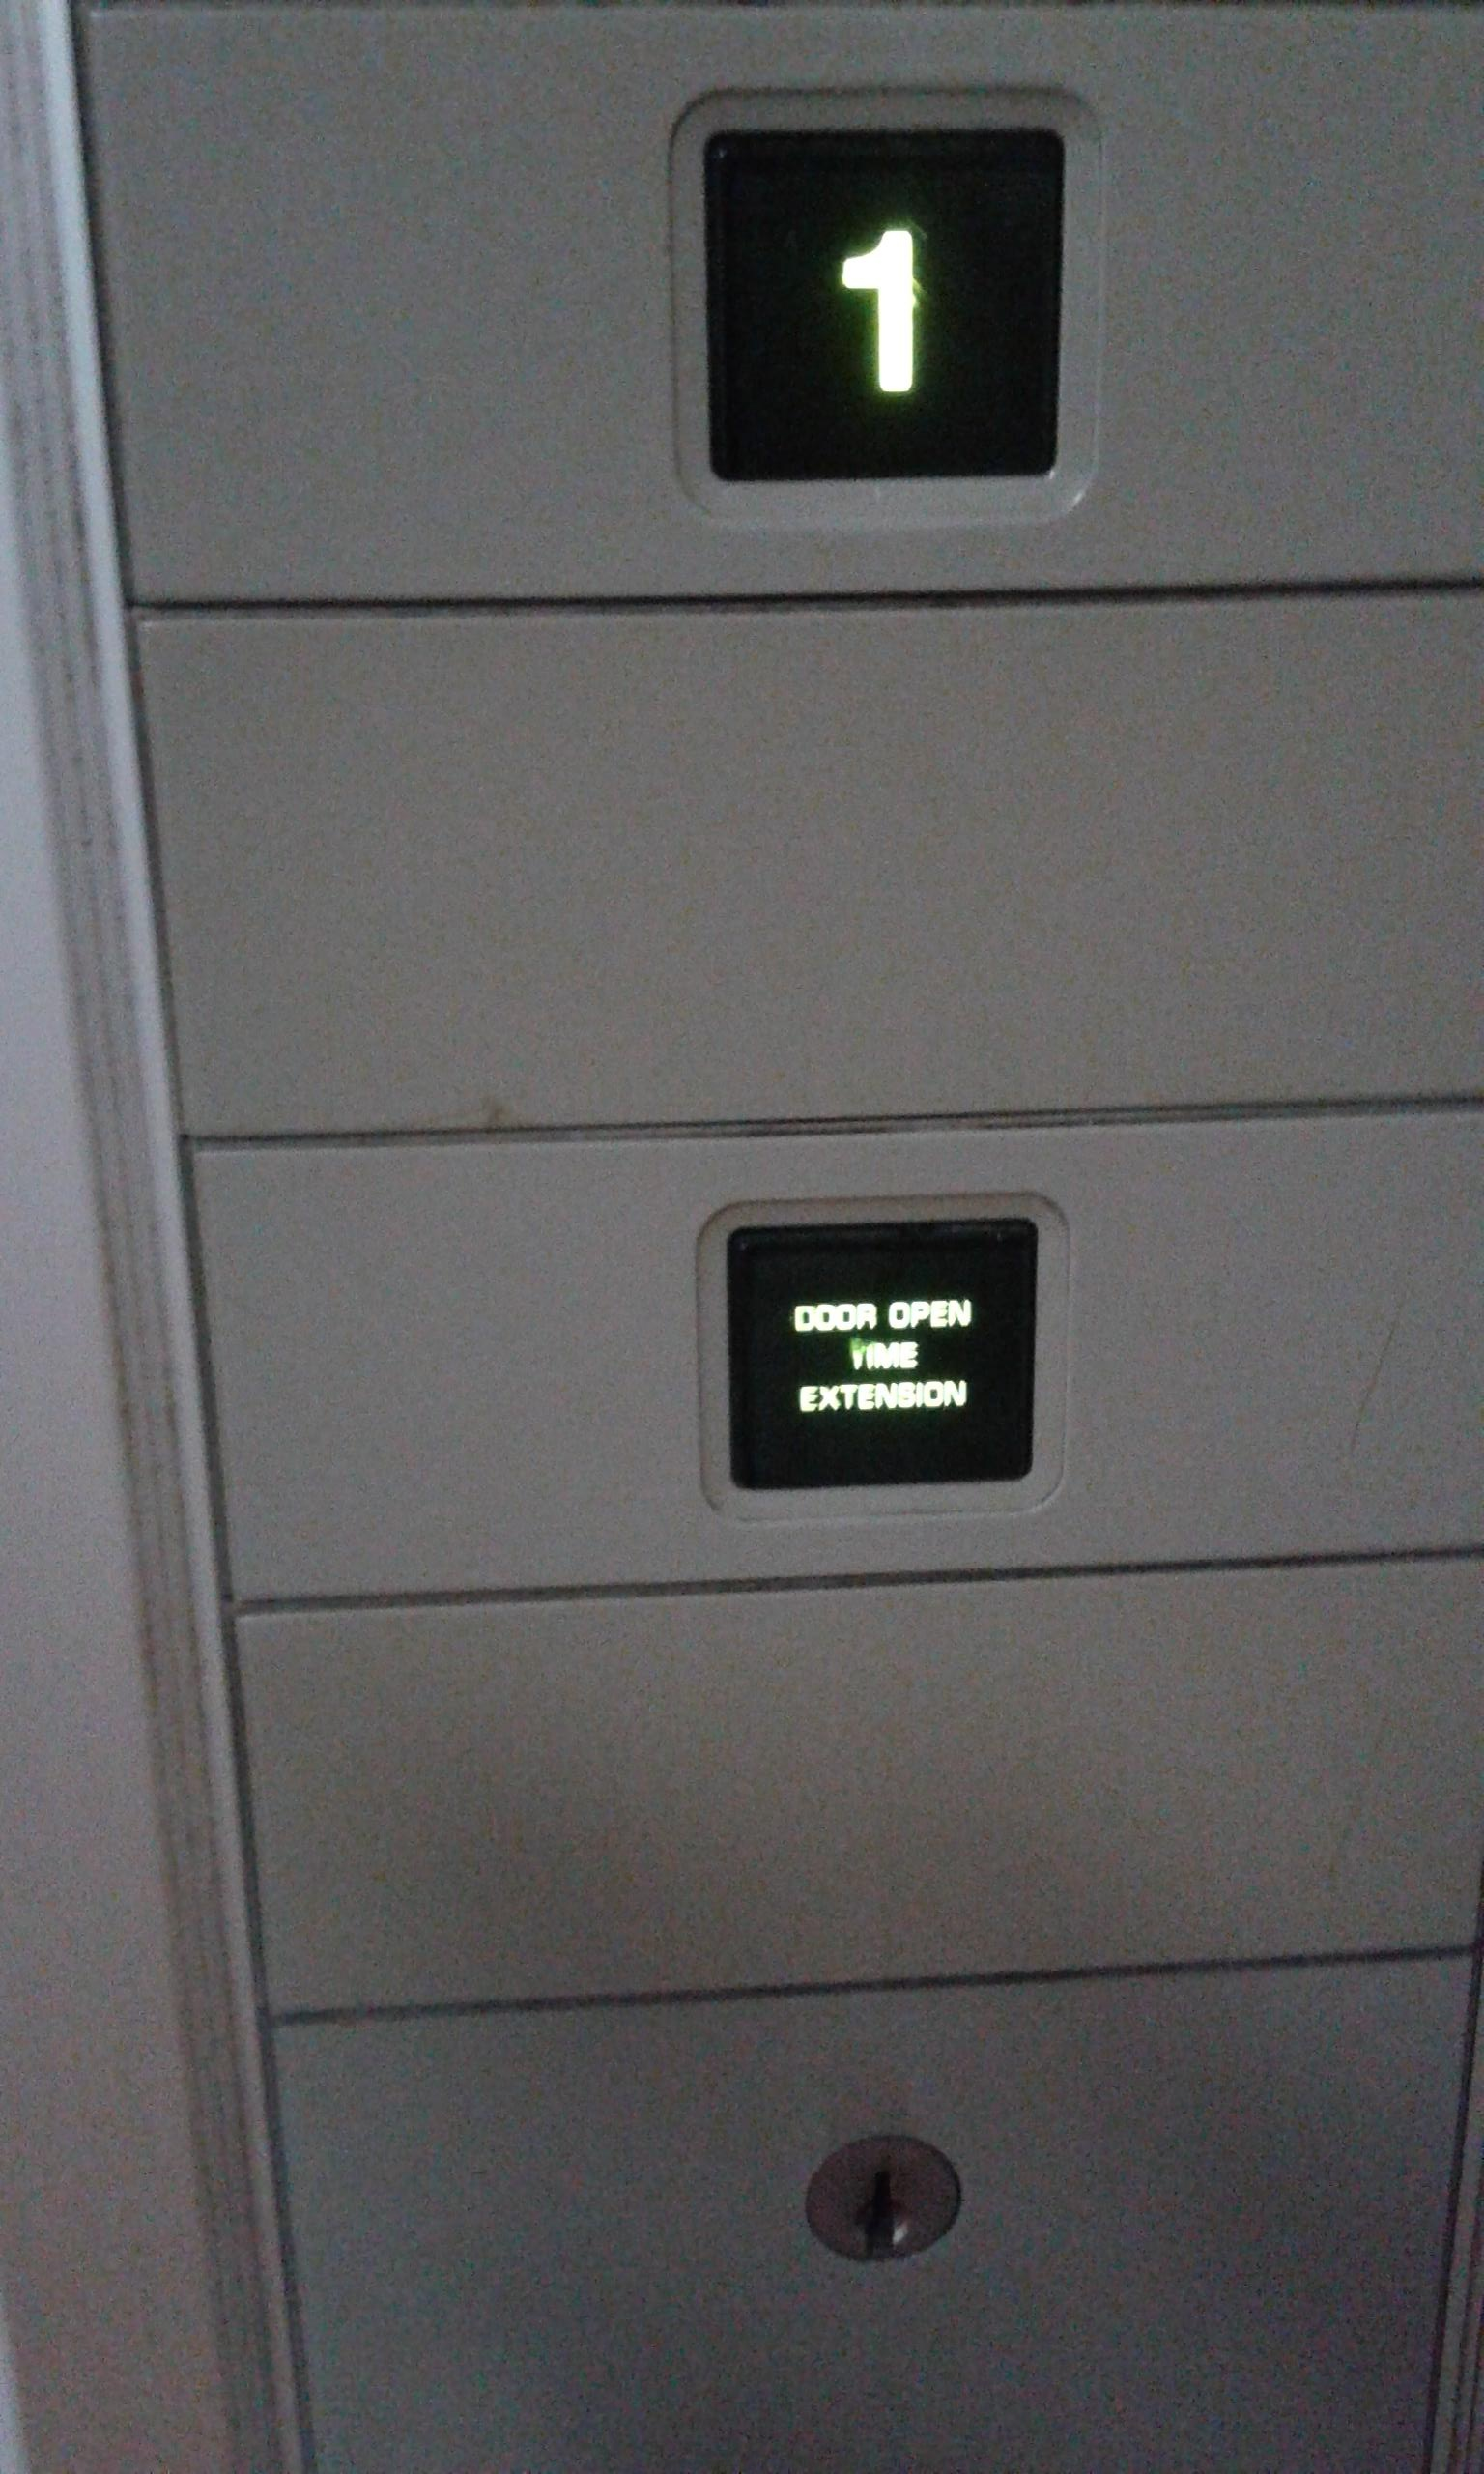1: (657, 65, 1120, 534)
text: (685, 1182, 1078, 1534)
